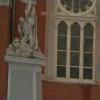Statue: (7, 4, 48, 79)
